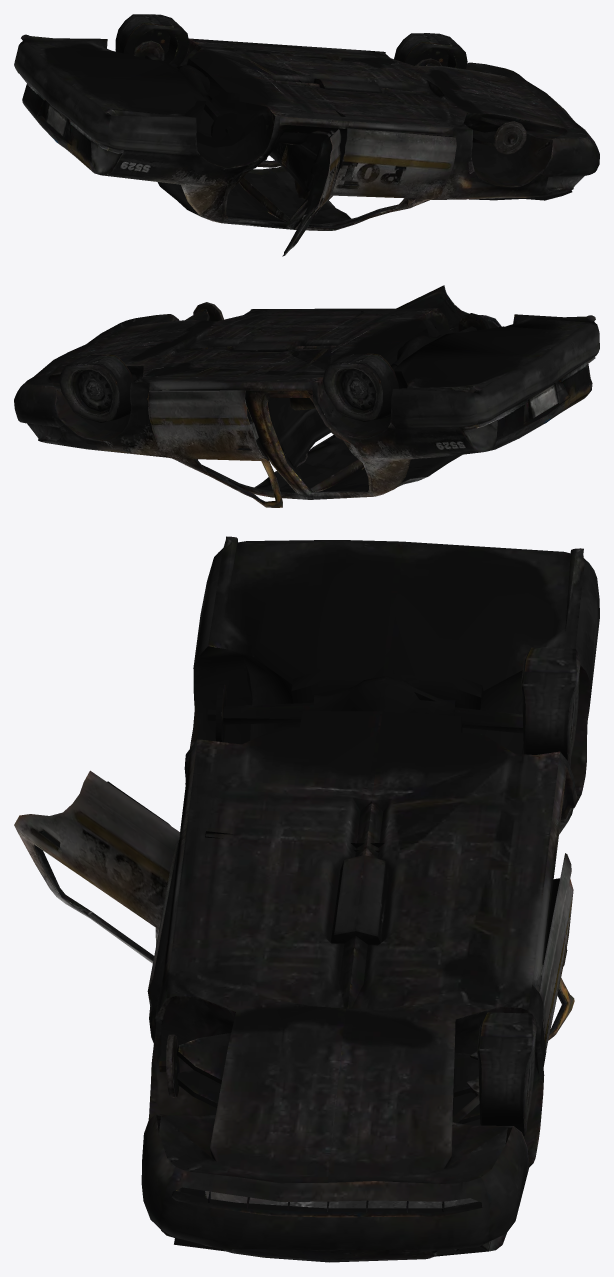
The model's file is car_police_flip.glb.
3 views of the same model, one above another, from view 1: azimuth 30°, elevation 25°; view 2: azimuth 150°, elevation 25°; view 3: azimuth 270°, elevation 25° (orthographic). The views are drawn at different scales.
Parts seen in each view (by area): view 1: Object005_Material #99_0; view 2: Object005_Material #99_0; view 3: Object005_Material #99_0.
Boxes of the visible parts, x1,y1,x2,y2 form: Object005_Material #99_0: (14,14,599,256); Object005_Material #99_0: (14,285,599,507); Object005_Material #99_0: (14,536,599,1262).
Bounding box in the file's own units: 5.2 × 1.82 × 2.95.
Materials: 1 (1 with a texture image).
